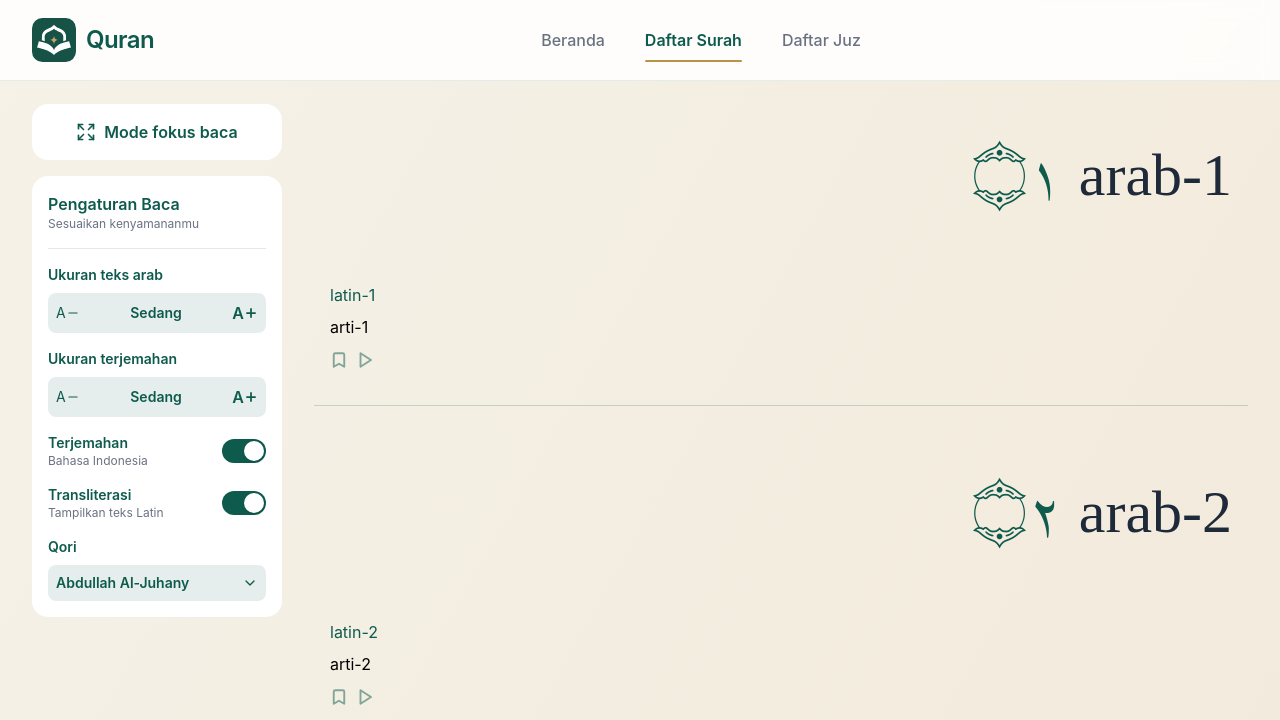
Scenario: SurahDetailView › saat audio selesai › otomatis lanjut ke ayat berikutnya
(page scrolled)
Click the button without text below "arti-1" at (365, 360), box [352,347,378,373]
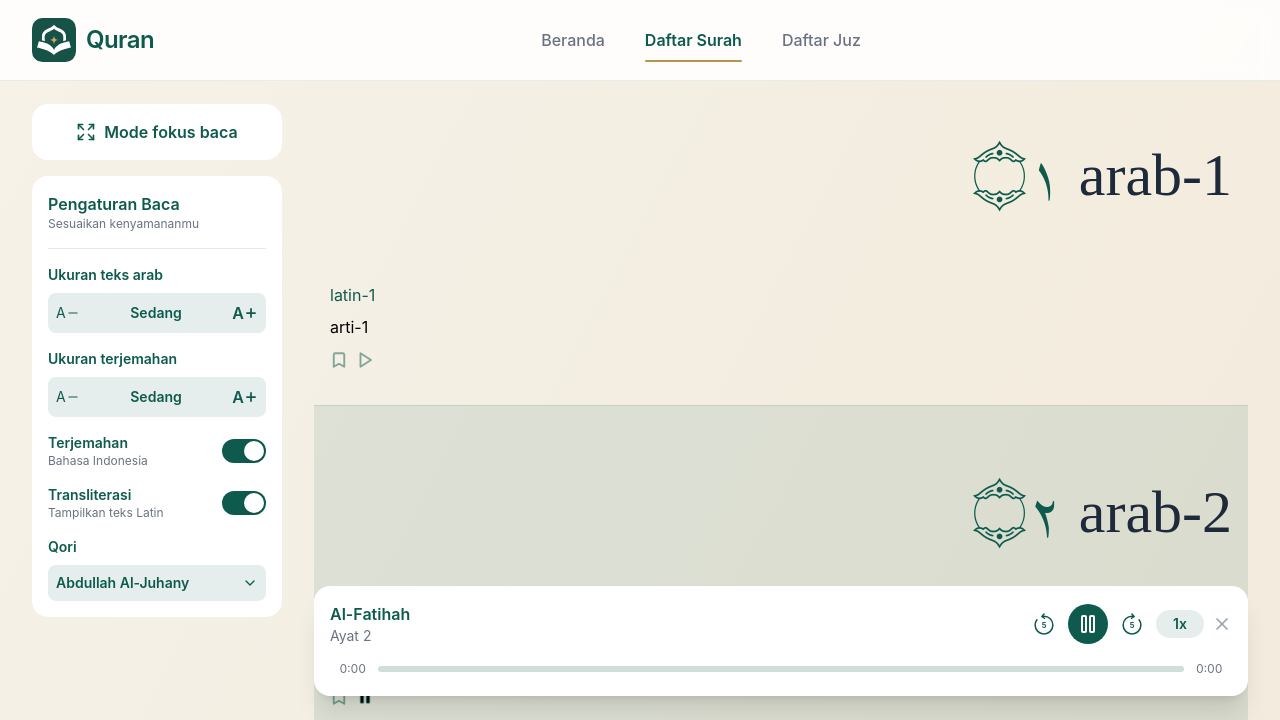
Now the text "Ayat 2" is shown, box [330,627,371,644]
